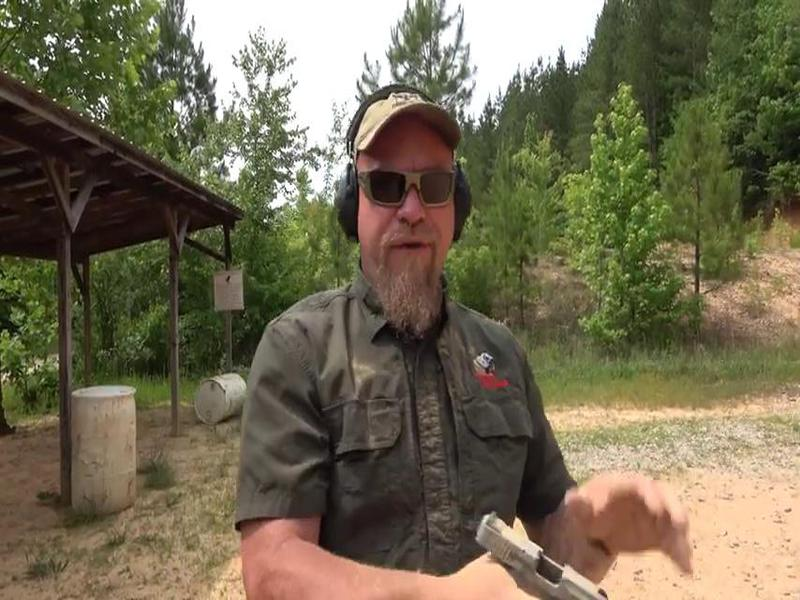Pistola: (472, 481, 618, 600)
